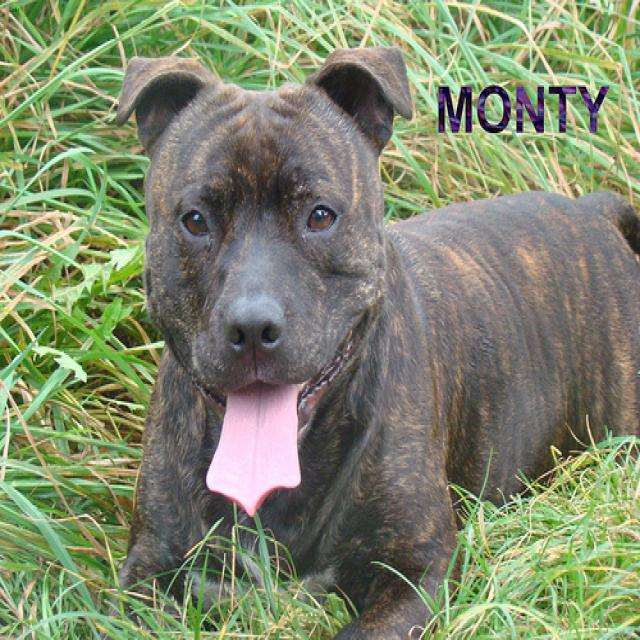dog-staffordshire_bull_terrier: (83, 38, 637, 637)
